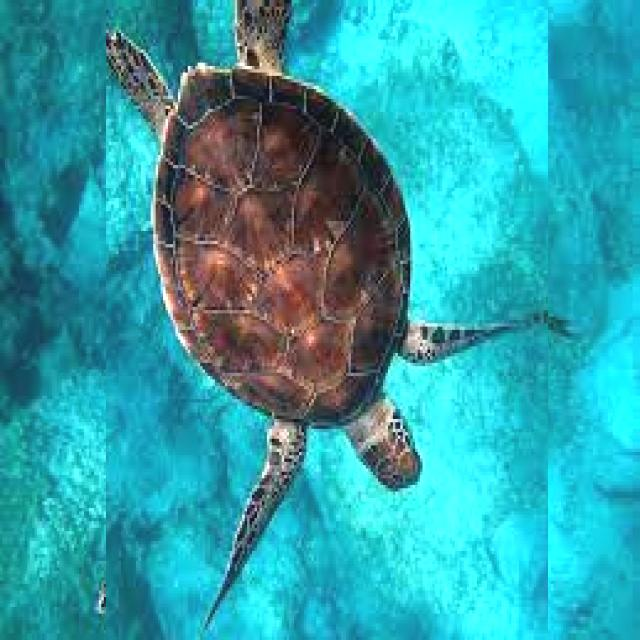Sea turtle: (106, 0, 548, 640)
